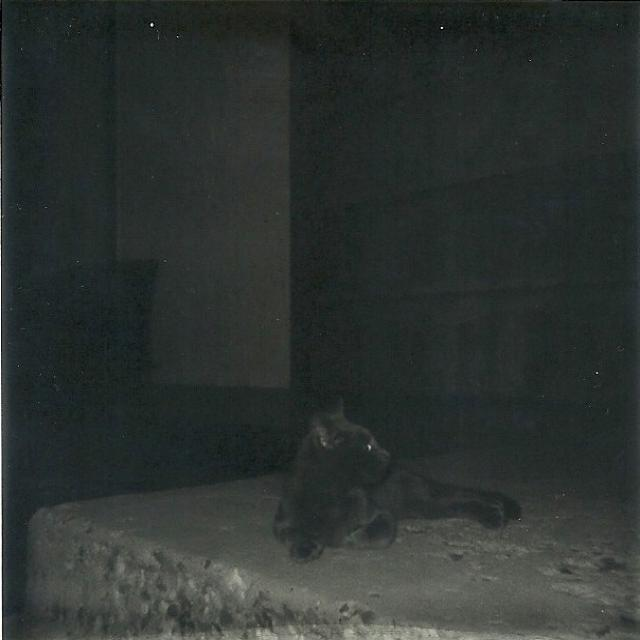Cat: (269, 388, 555, 555)
